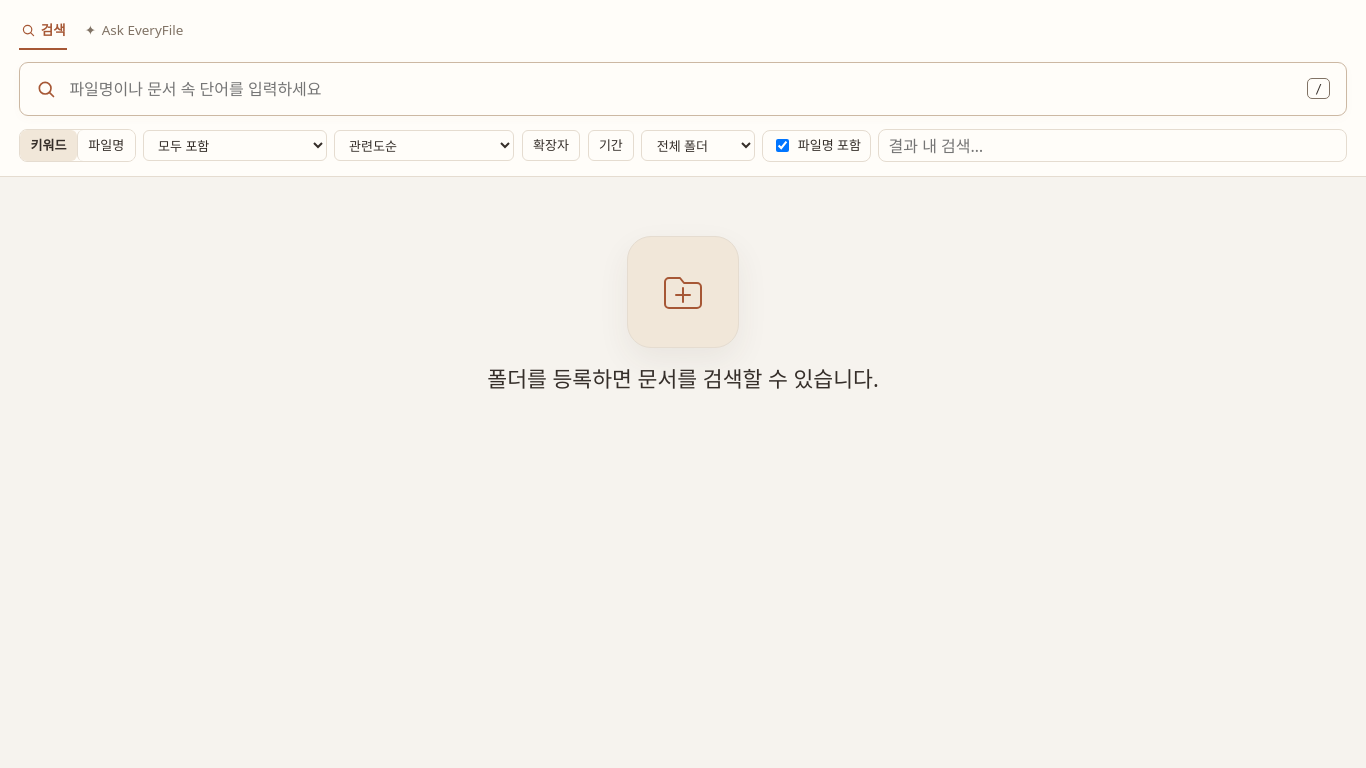
Test case: SearchWorkspace › synchronizes extension query syntax, filter chips, dates, and folder scope
In the search field named "검색어": (682, 89) [67,77,1296,101], type "중간고사 ext:hwp,pdf"
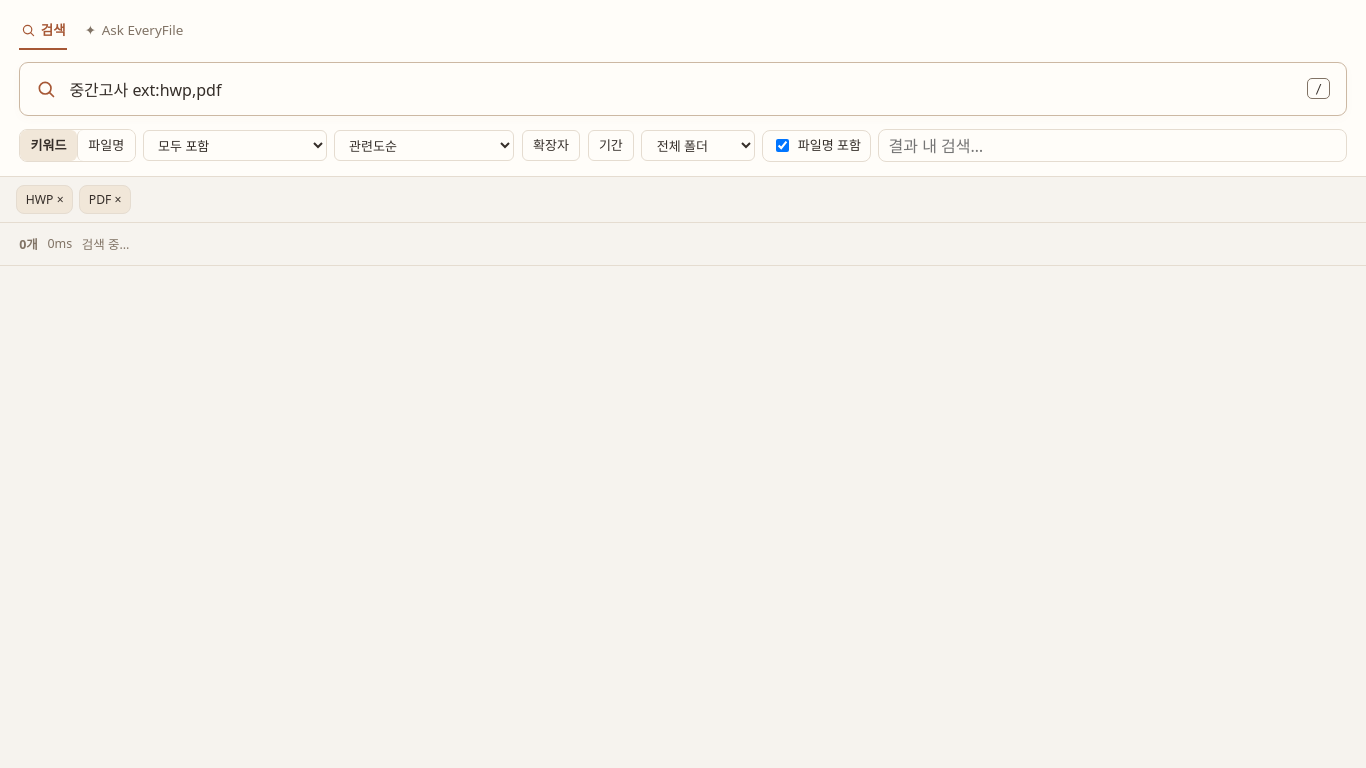
Click the button "확장자": click(551, 146) [522,130,580,161]
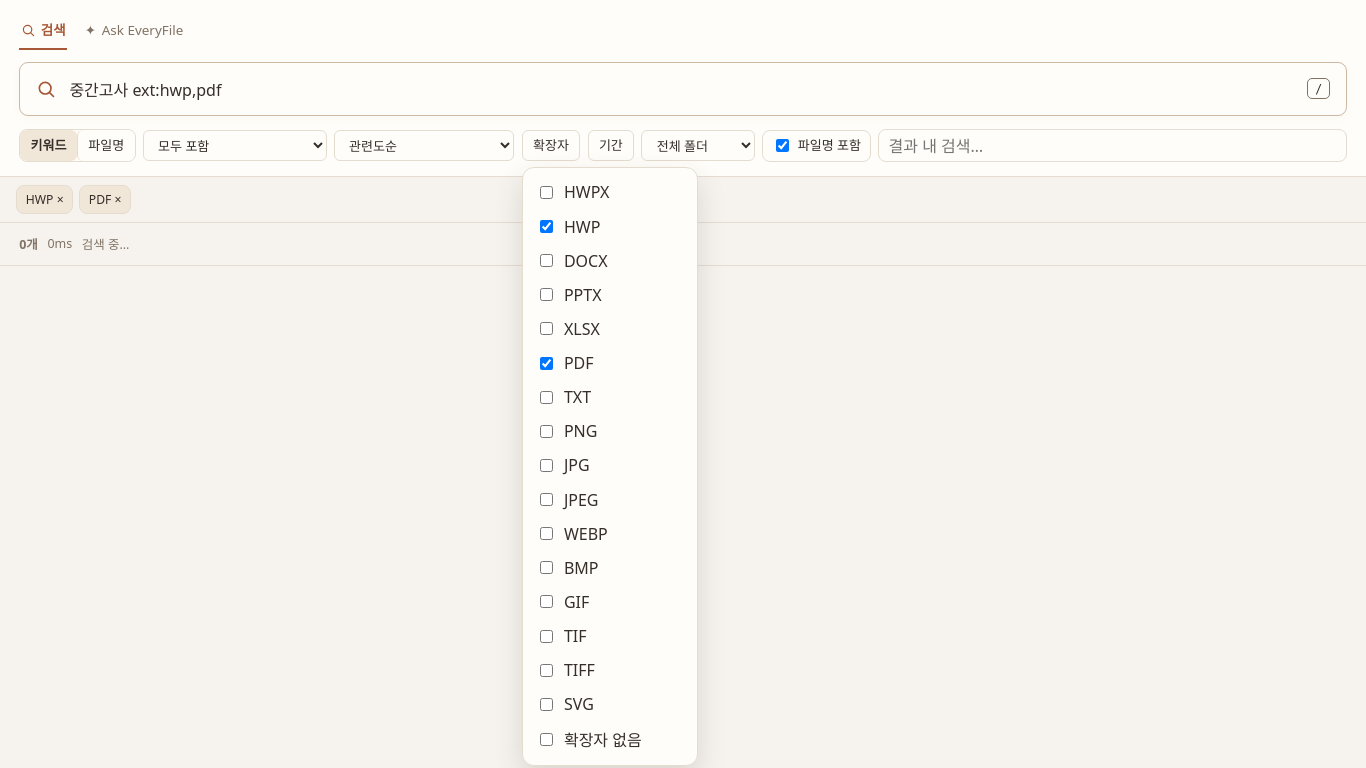
Check: the checkbox labelled "HWP" is checked, box [540,220,553,233]
Check: the checkbox labelled "PDF" is checked, box [540,357,553,370]
Click the button "기간": click(611, 146) [588,130,634,161]
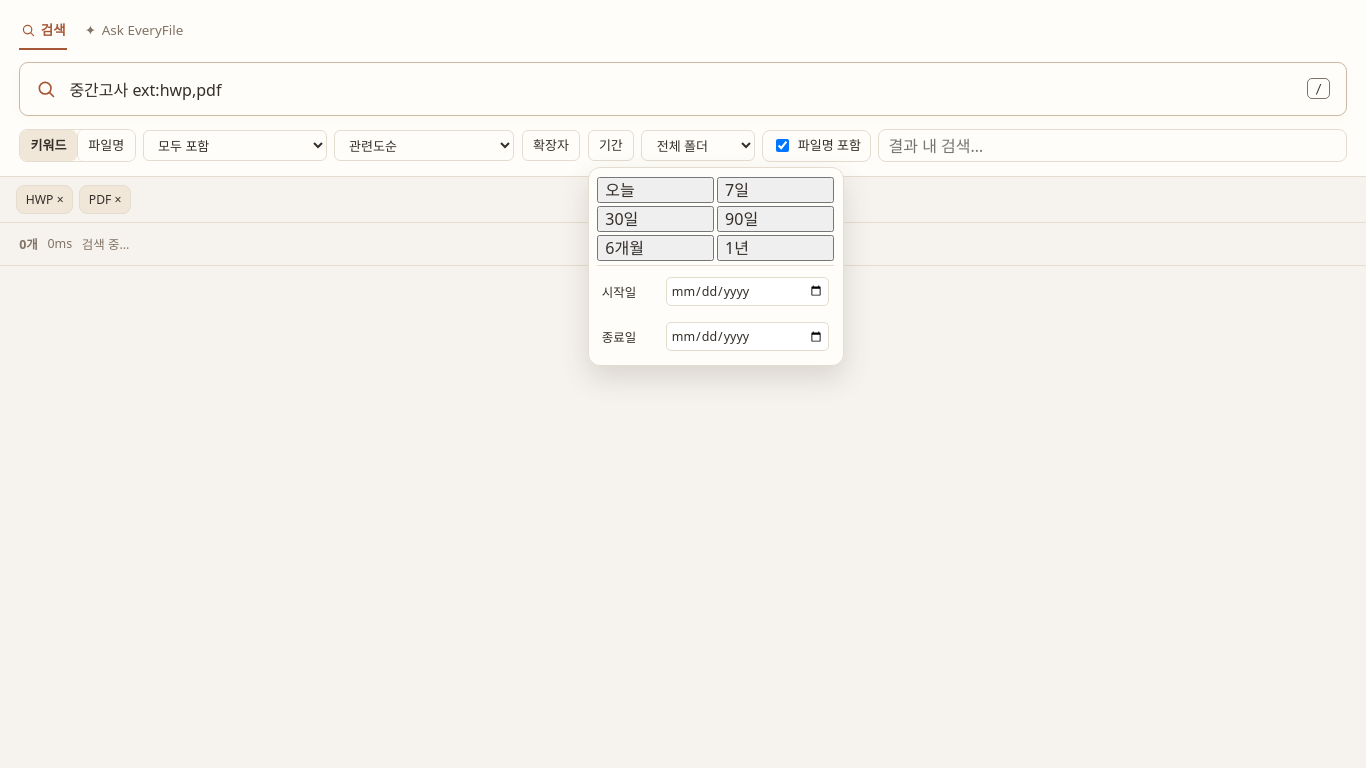
In the date field labelled "시작일": (748, 292) [666,277,829,306], type "2026-07-01"
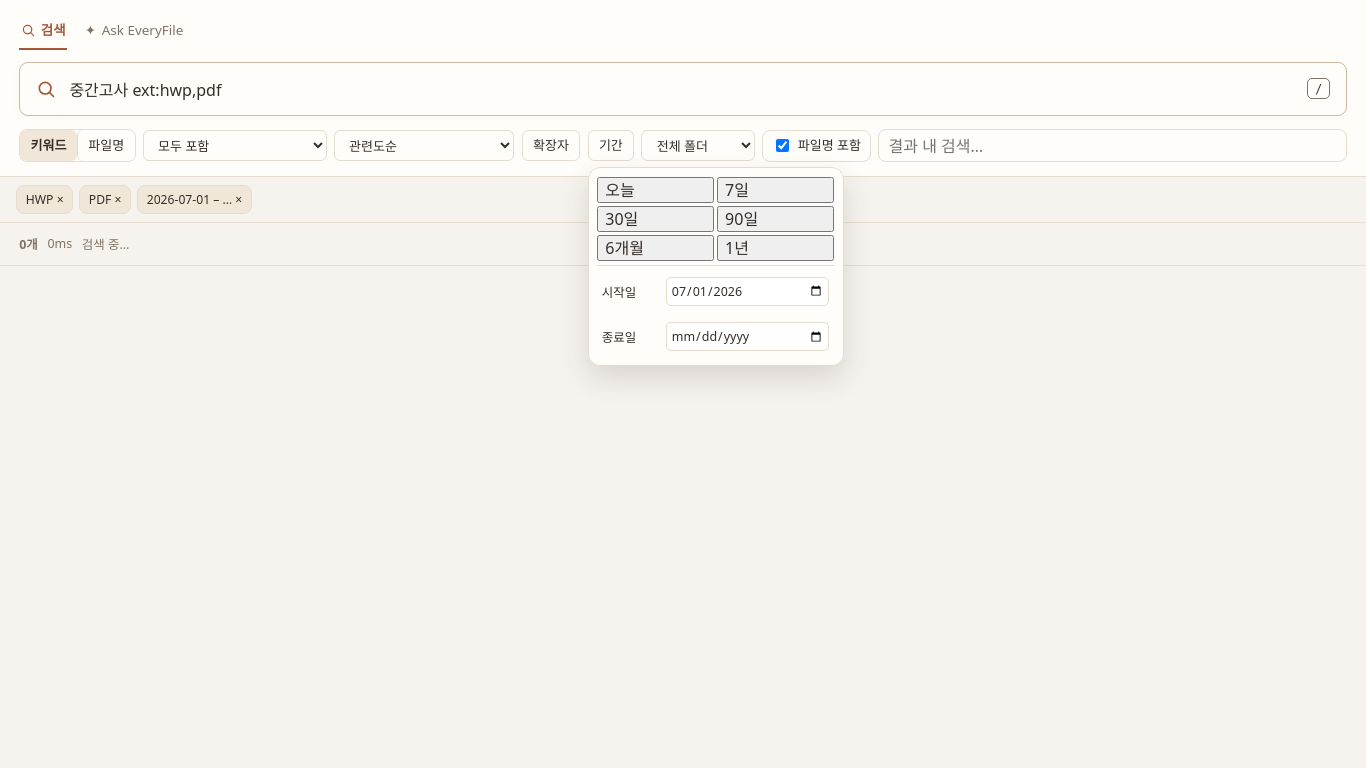
In the date field labelled "종료일": (748, 337) [666,322,829,351], type "2026-07-30"
Select "Documents" in the dropdown named "폴더 범위": (698, 146) [641,130,755,161]
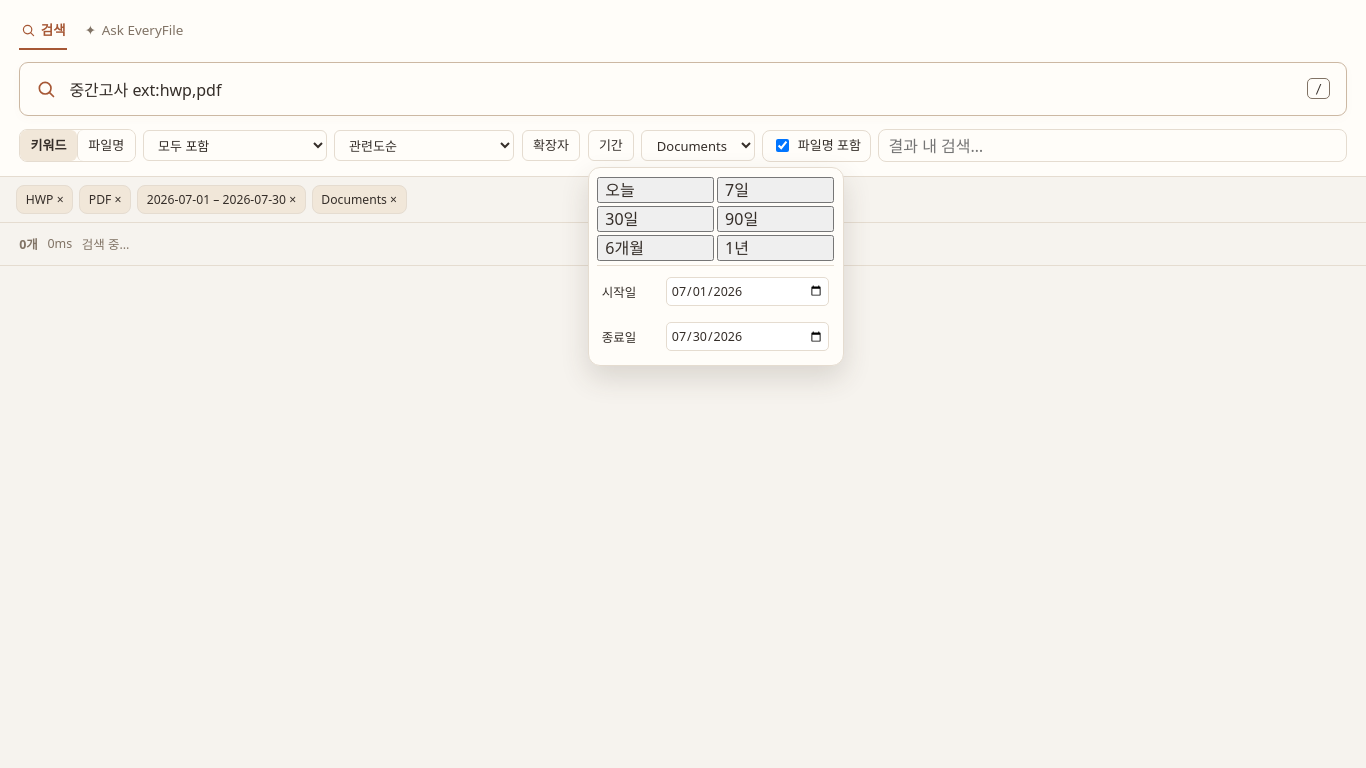
Check: the button with aria-label "확장자 HWP 제거" is shown
Check: the button named "기간 필터 제거" is shown, box [137,185,306,214]
Check: the button with aria-label "폴더 Documents 제거" is shown, box [312,185,407,214]
Click the button with aria-label "확장자 HWP 제거": click(45, 199) [16,185,73,214]
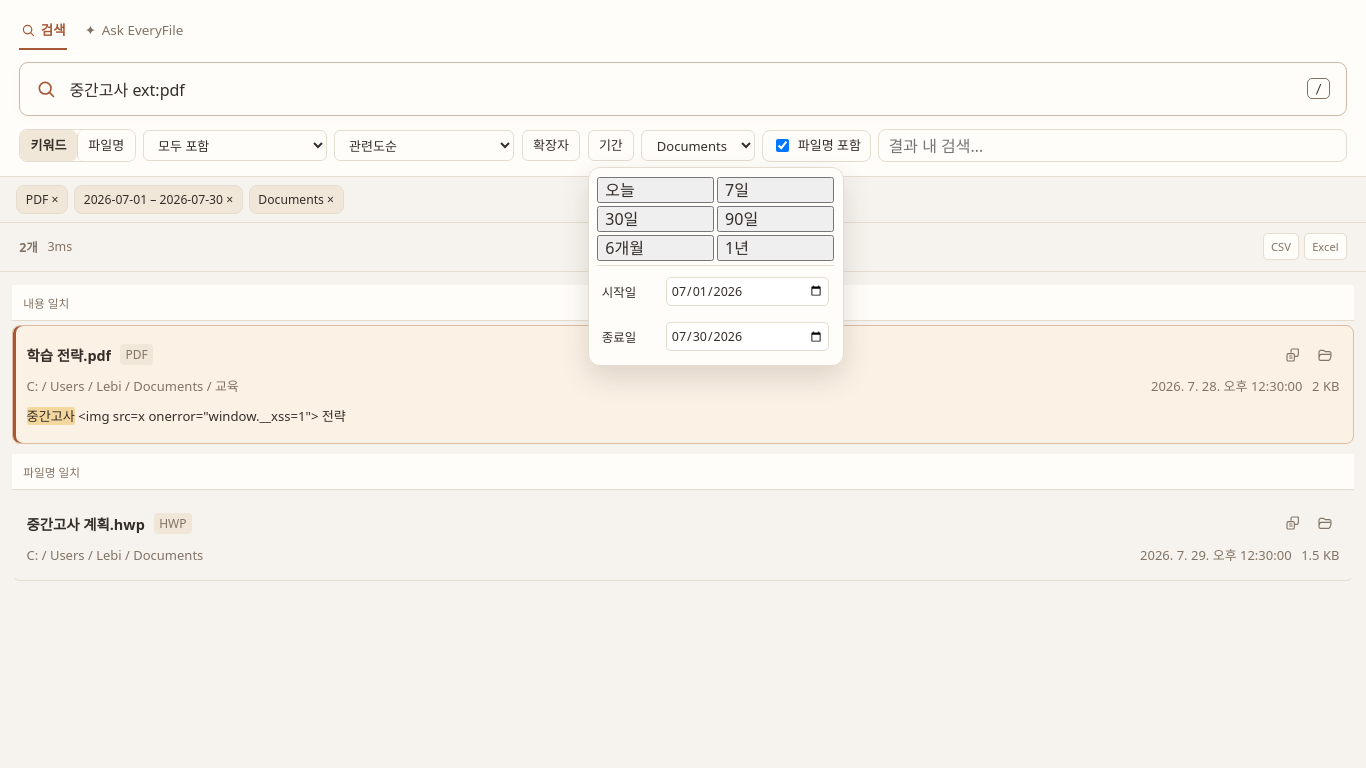
Check: the search field named "검색어" holds "중간고사 ext:pdf", box [67,77,1296,101]
